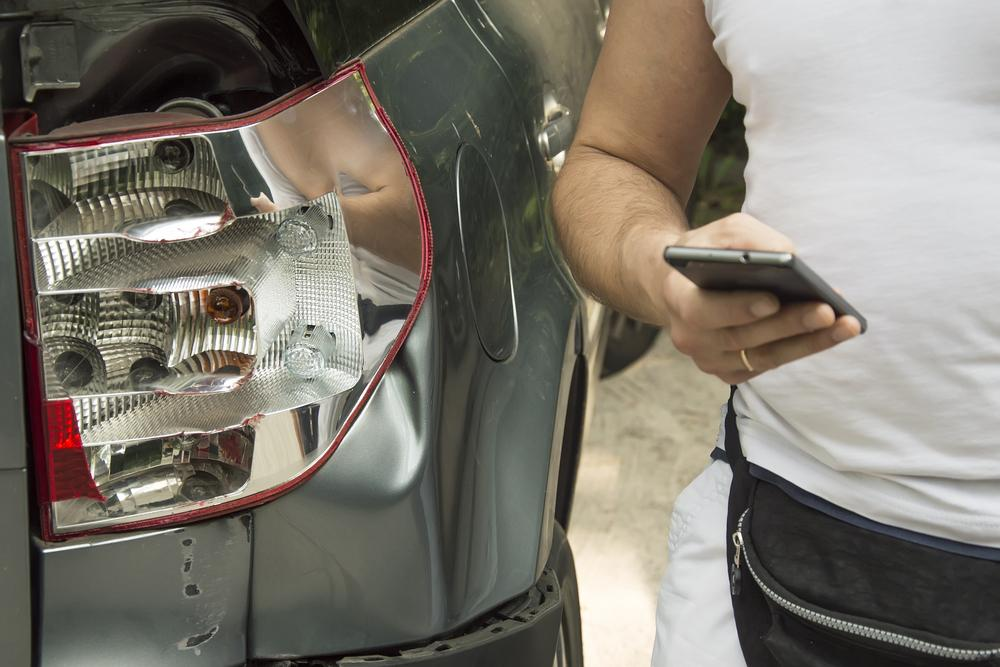dent: (321, 298, 429, 487), (60, 17, 272, 113)
lamp broken: (13, 66, 428, 540)
scratch: (174, 512, 254, 654)
